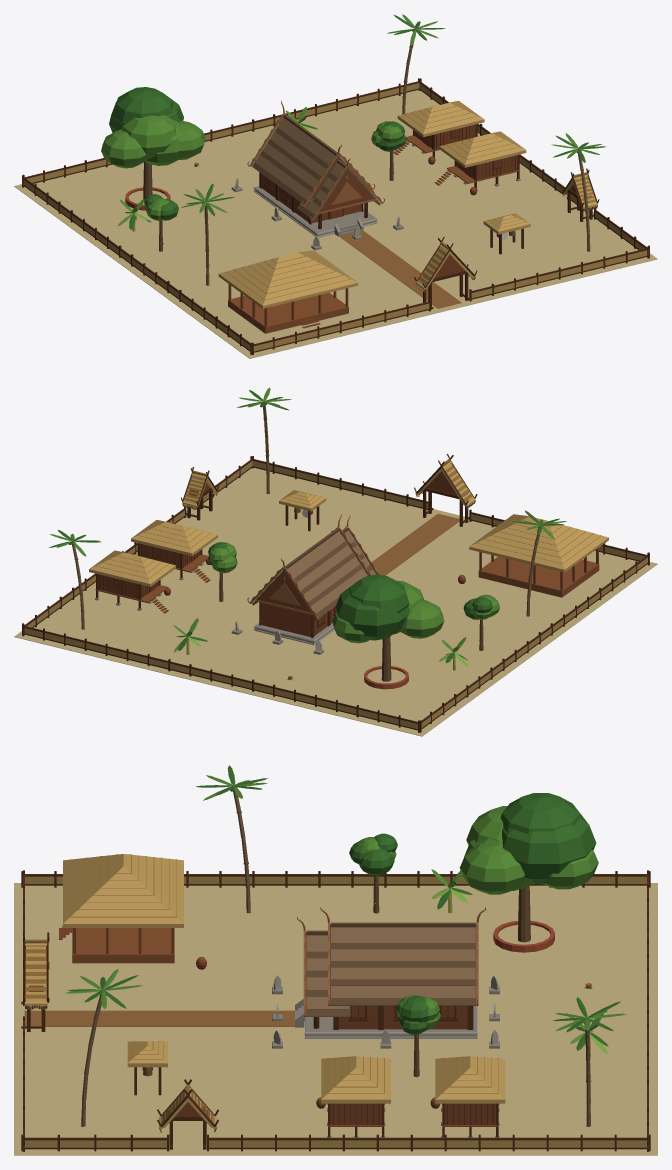
Rendered from temple_1.glb.
3 renders of one model, top to bottom at view 1: azimuth 30°, elevation 25°; view 2: azimuth 150°, elevation 25°; view 3: azimuth 270°, elevation 25°, orthographic. The views are drawn at different scales.
Visible parts, largest first — view 1: body; view 2: body; view 3: body.
Boxes of the visible parts, left/top/right/bottom form: body: left=14, top=14, right=657, bottom=358; body: left=14, top=387, right=657, bottom=736; body: left=14, top=765, right=657, bottom=1155.
Size of the model in its own units: 47.9 by 12.07 by 47.9.
